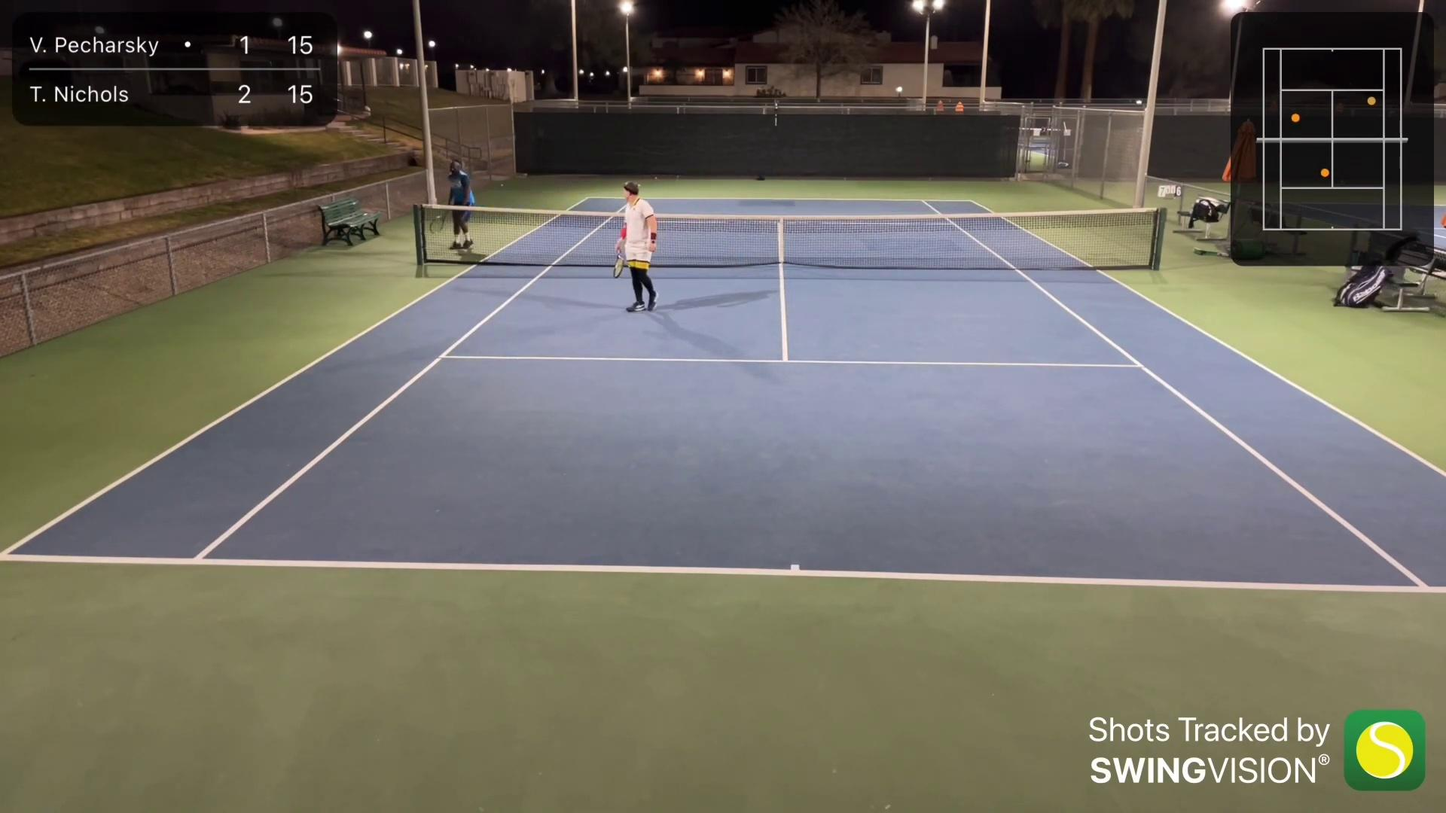ball: (652, 176, 660, 183), (637, 182, 643, 189), (499, 183, 507, 188)
